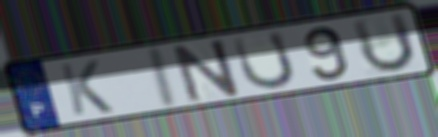9: (303, 25, 350, 81)
I: (147, 44, 182, 112)
K: (56, 58, 117, 118)
N: (169, 36, 244, 105)
U: (347, 10, 419, 76), (229, 28, 299, 92)
